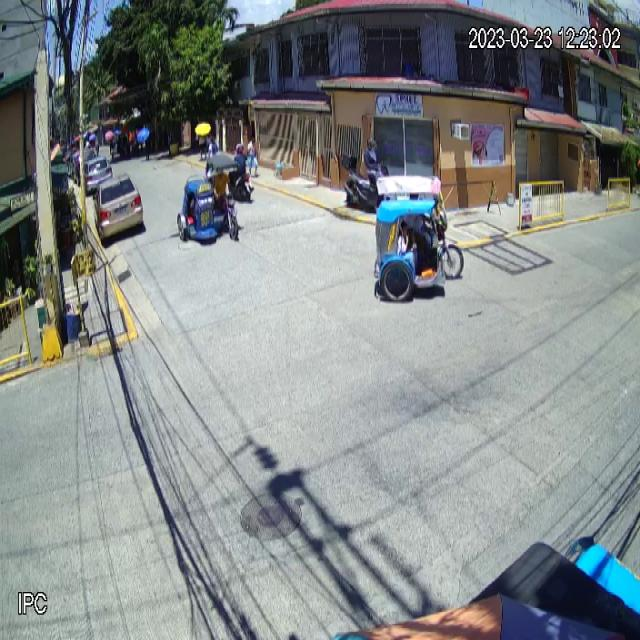Tricycle: (372, 174, 465, 303), (176, 151, 241, 242)
